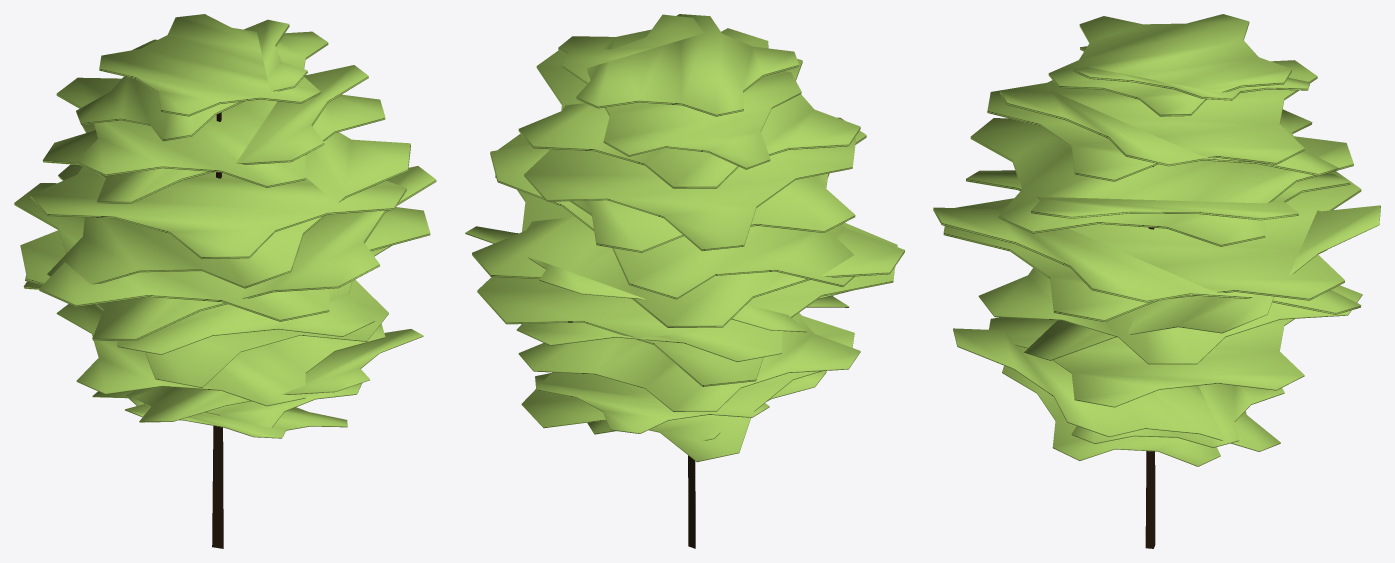
File: GenericNewTree.glb
3 views of the same model, side by side, from view 1: azimuth 30°, elevation 25°; view 2: azimuth 150°, elevation 25°; view 3: azimuth 270°, elevation 25° (orthographic). The views are drawn at different scales.
Parts seen in each view (by area): view 1: GenericNewTree; view 2: GenericNewTree; view 3: GenericNewTree.
Part boxes in pixels (bbox=[...]): GenericNewTree: bbox=[14, 14, 436, 548]; GenericNewTree: bbox=[465, 14, 904, 548]; GenericNewTree: bbox=[933, 14, 1380, 548].
Size of the model in its own units: 1.63 by 1.97 by 1.6.
